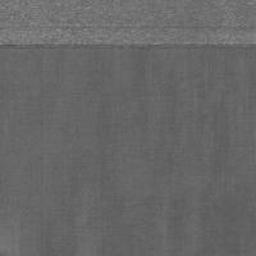Welding line: (0, 42, 256, 51)
